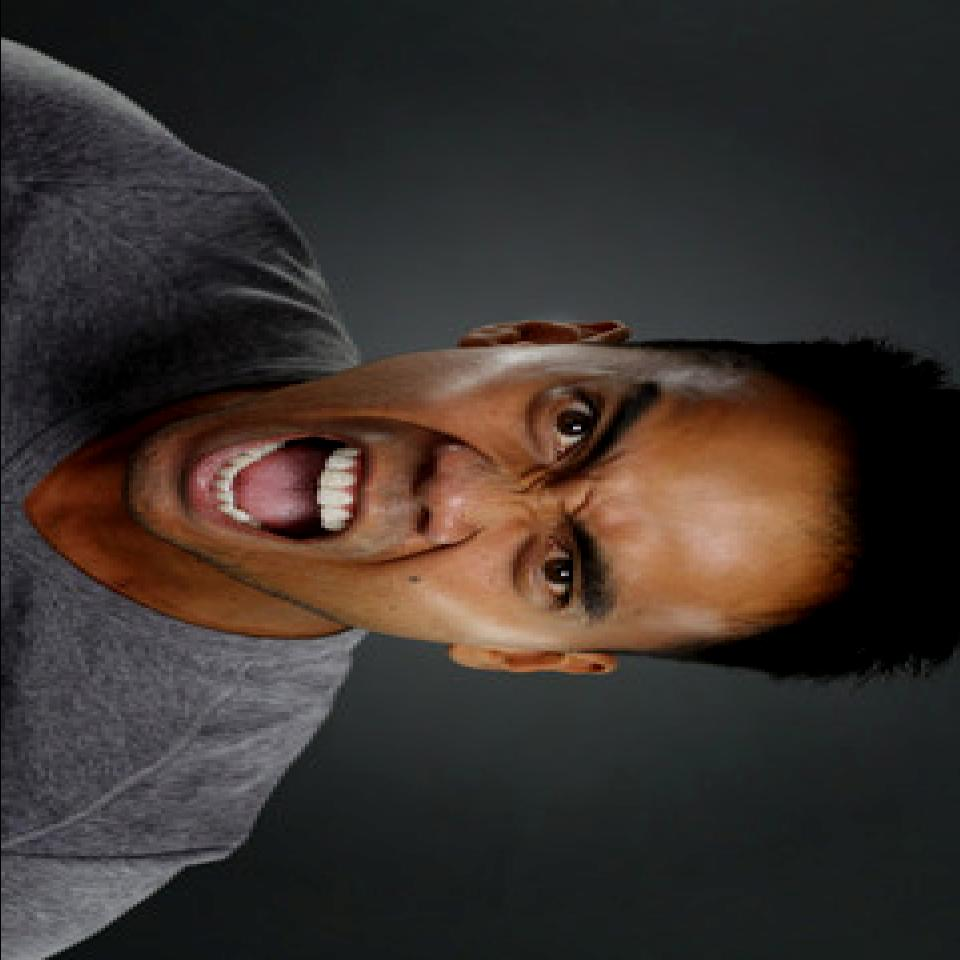Anger: (124, 344, 822, 656)
